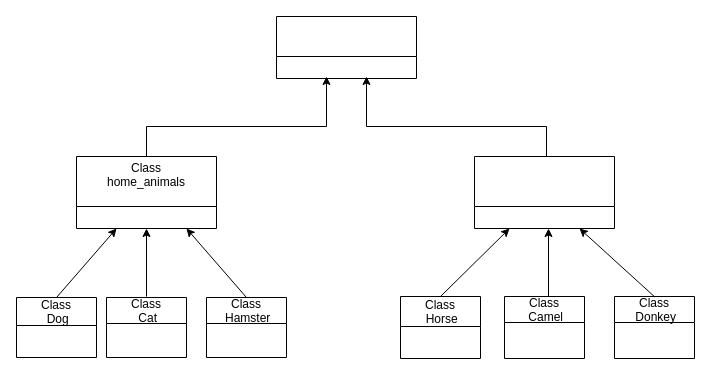
Some shapes in this 711 by 375 pixel diagram are drawn without their labels. The shapes that lost their labels are listed below. From the top down, each one's box as (x1, y1, x2, y2) in pixels, then its label:
(276, 16, 416, 78): Class animals
(474, 156, 614, 228): Class pack_animals
